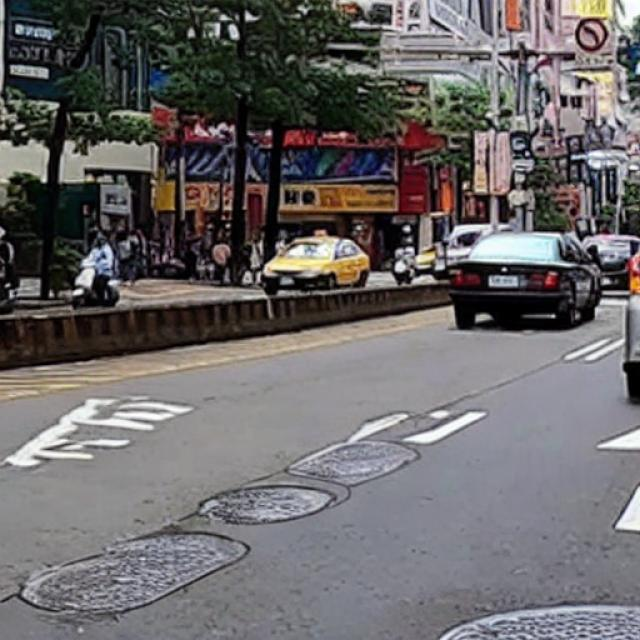puddle: (25, 536, 247, 617), (293, 440, 417, 488), (206, 487, 332, 526)
